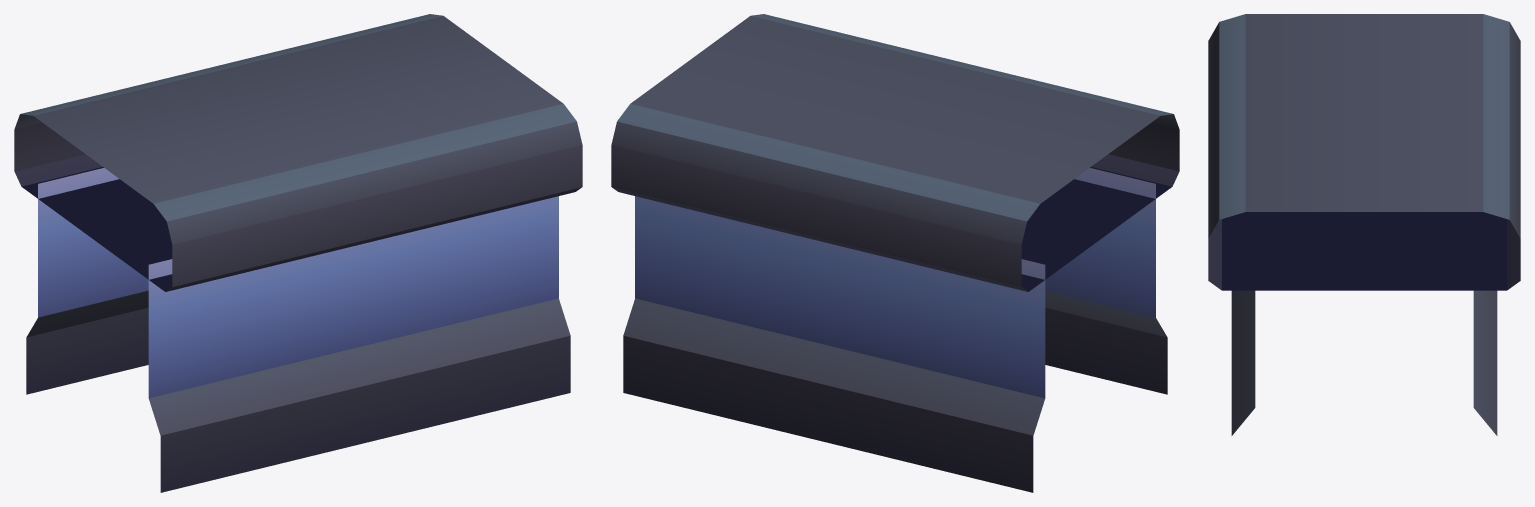
Rendered from bar_middle.fbx.
The picture shows the model from 3 angles, left to right: view 1: azimuth 30°, elevation 25°; view 2: azimuth 150°, elevation 25°; view 3: azimuth 270°, elevation 25°; orthographic projection.
Parts seen in each view (by area): view 1: bar_middle; view 2: bar_middle; view 3: bar_middle.
Boxes of the visible parts, x1=… form: bar_middle: x1=14, y1=14, x2=582, y2=492; bar_middle: x1=611, y1=14, x2=1179, y2=492; bar_middle: x1=1208, y1=14, x2=1520, y2=435.
Bounding box in the file's own units: 110 × 72.93 × 73.48.
